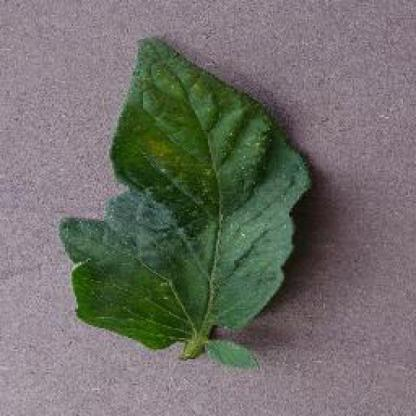Tomato_Spider_Mites: (59, 34, 308, 347)
